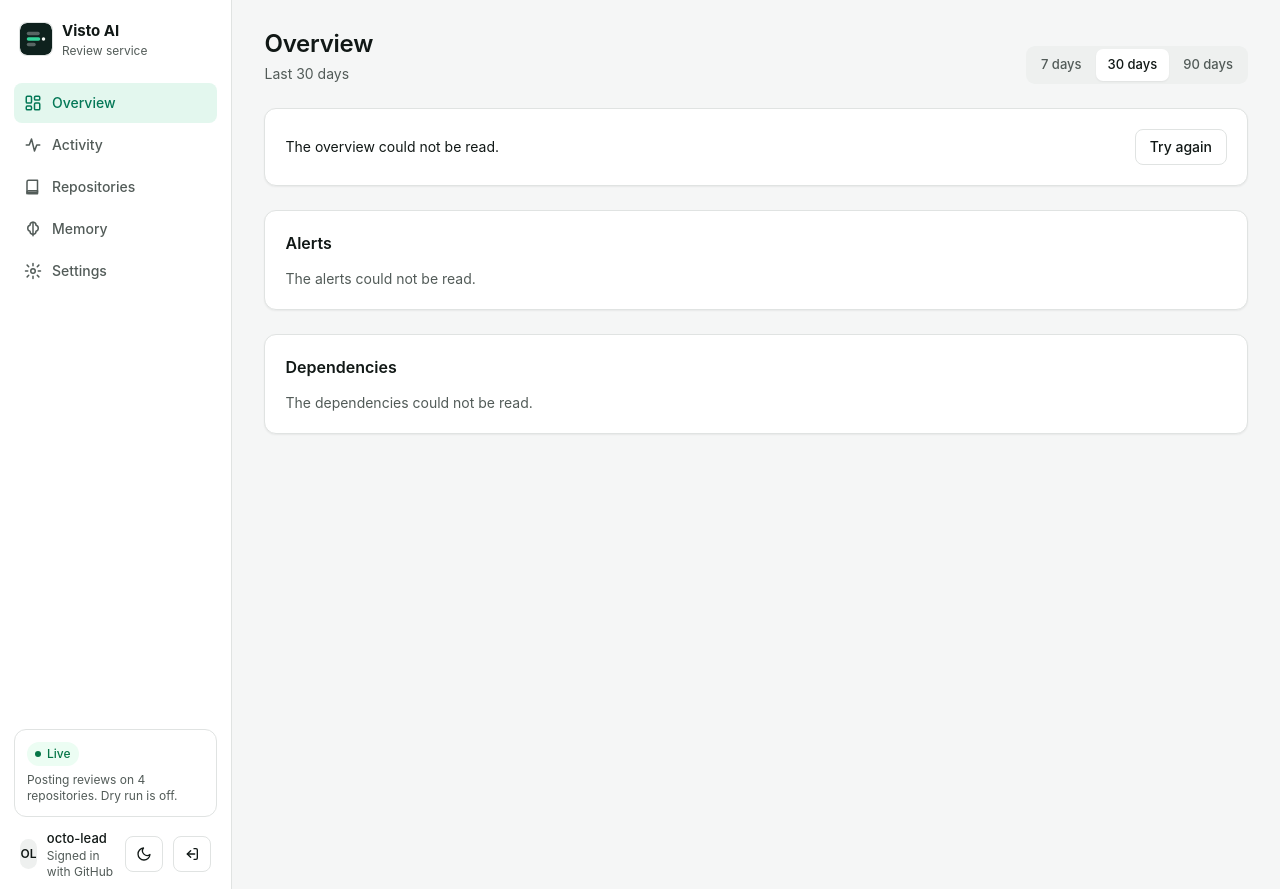
Test: an overview that cannot be read says so with no alert role, keeps its header, and Try again reads again
Check: the text "The overview could not be read." is shown, box [286,137,499,157]
Check: the heading "Overview" is shown, box [264,28,373,60]
Click the button "Try again": (1181,147) [1135,129,1227,165]
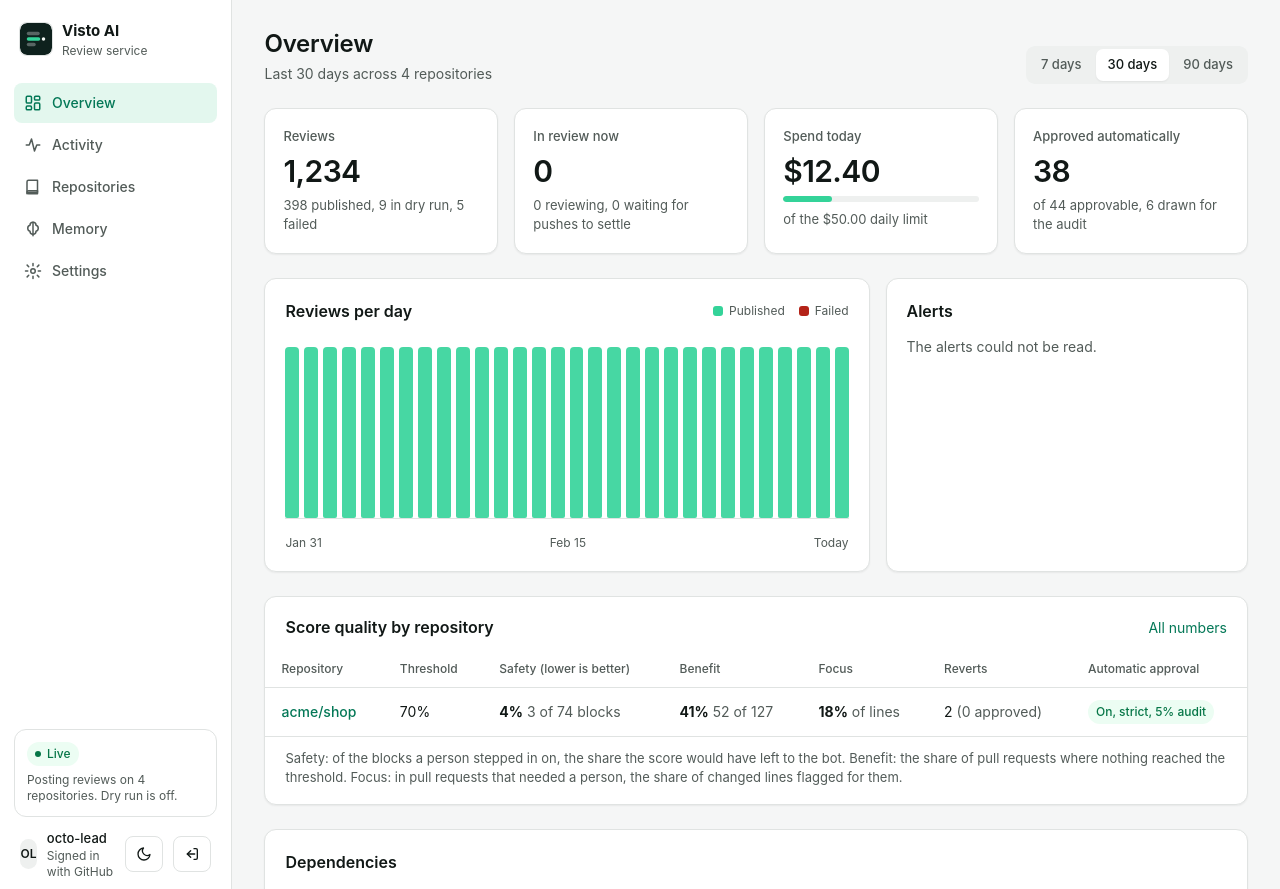
Check: the text "Last 30 days across 4 repositories" is shown, box [264,64,492,84]
Check: the text "The overview could not be read." is gone
